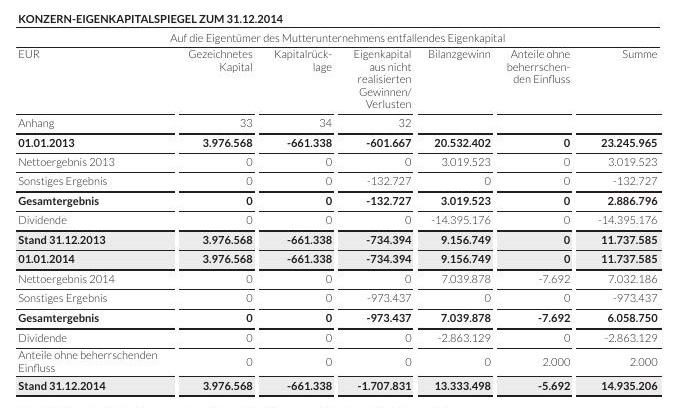table: (0, 0, 675, 408)
